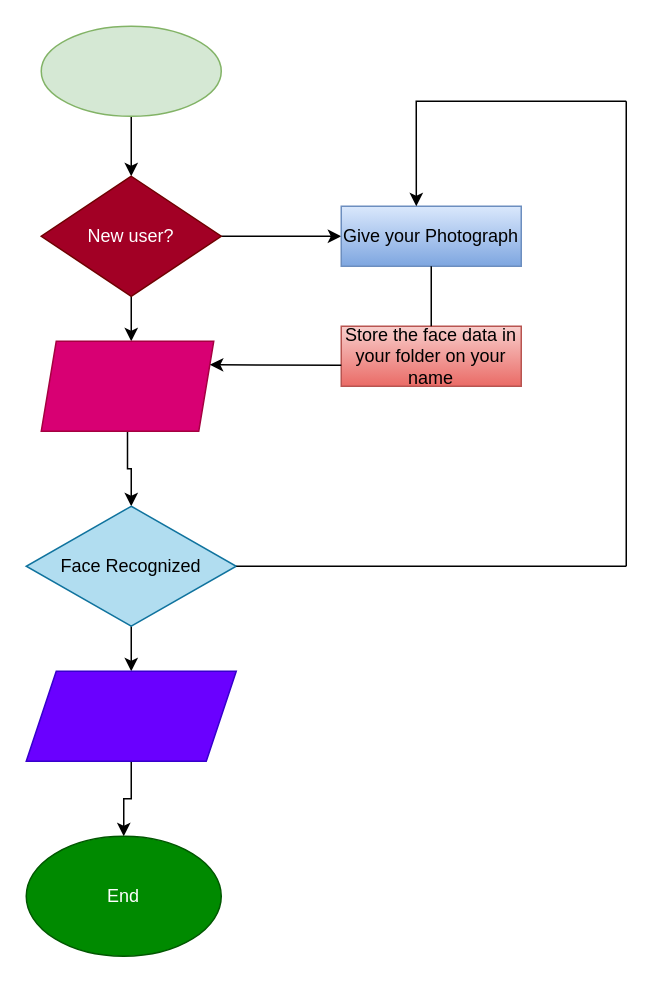
Image size: 665x983. Some labels were removed from this diagram. The centre of each missing label's shape, as x and y in pixels:
Recognize the user: the point at 127,385
Start: the point at 130,70
Stored in csv file with recognition number and data: the point at 130,715
